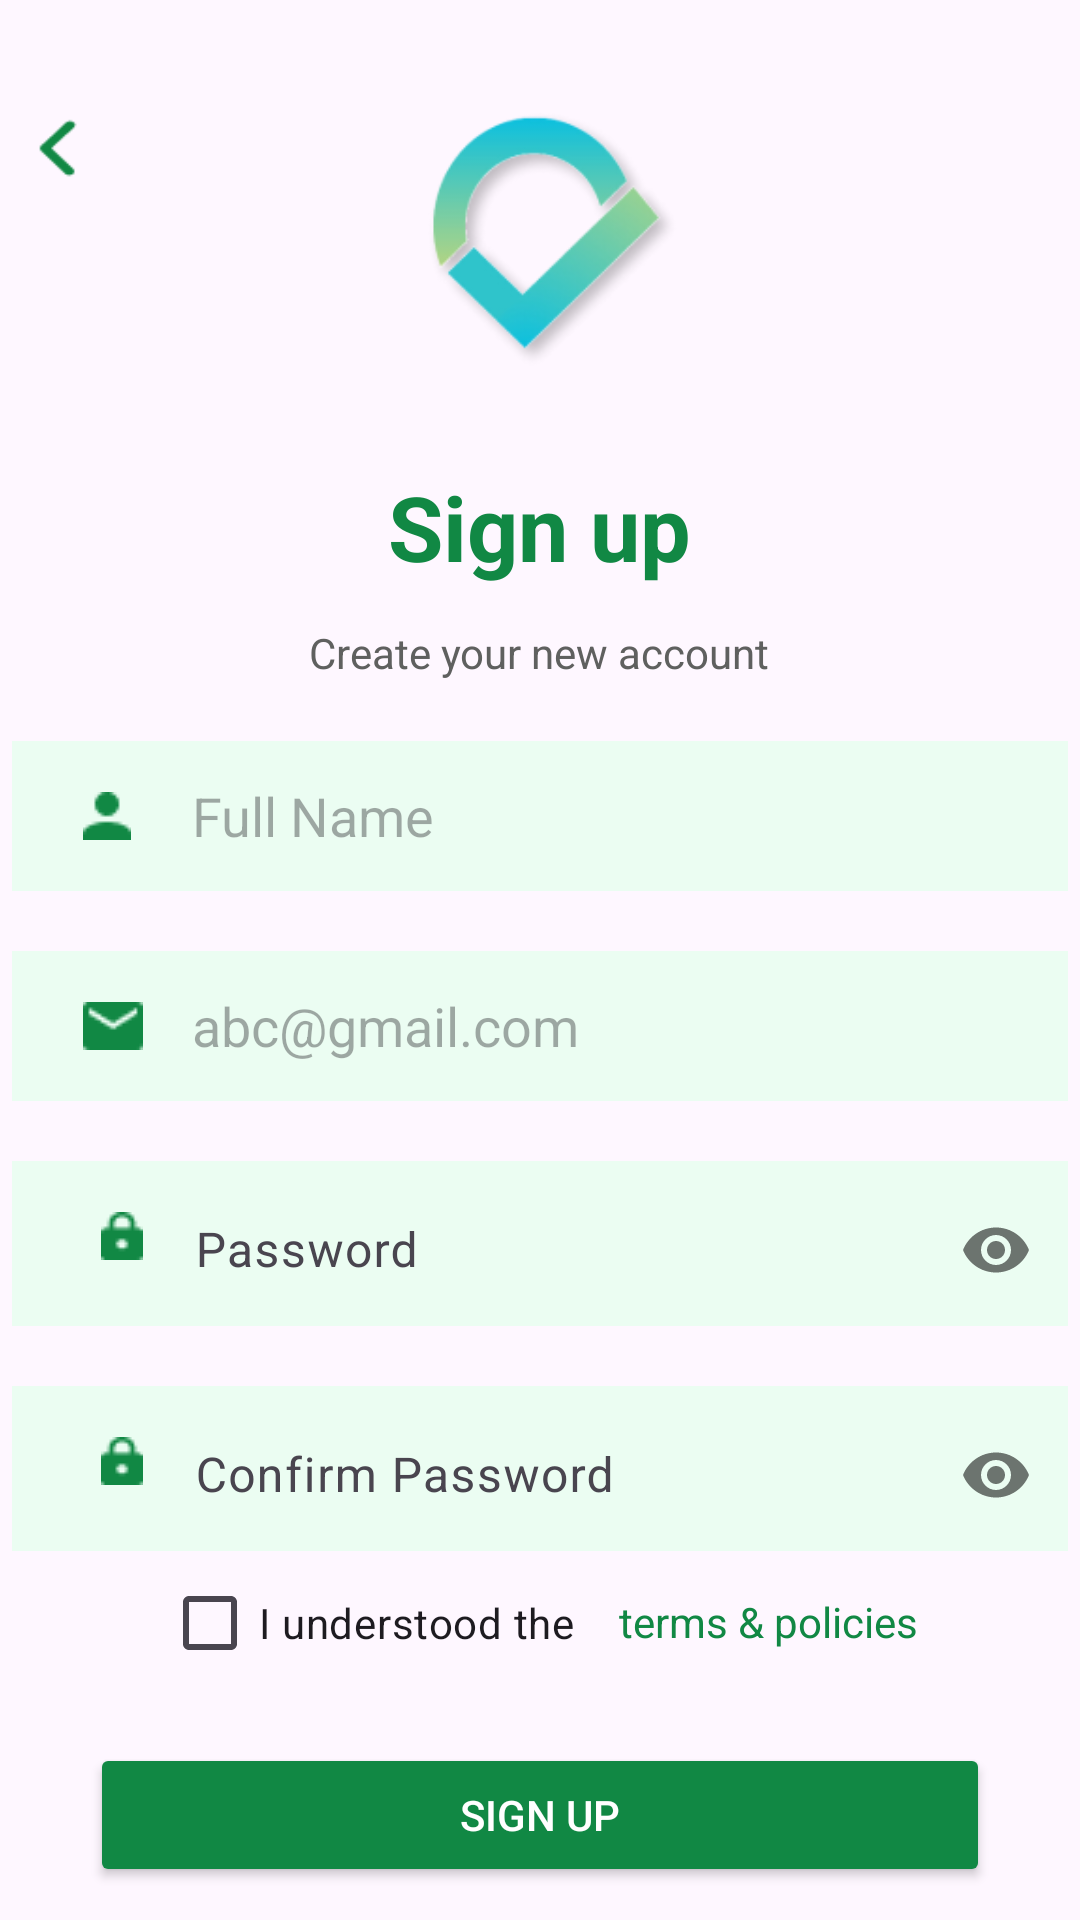

Screen size 1080*1920. Icon name, then its box in pixels as (x1, y1, x2, y2):
username: (83, 792, 131, 840)
